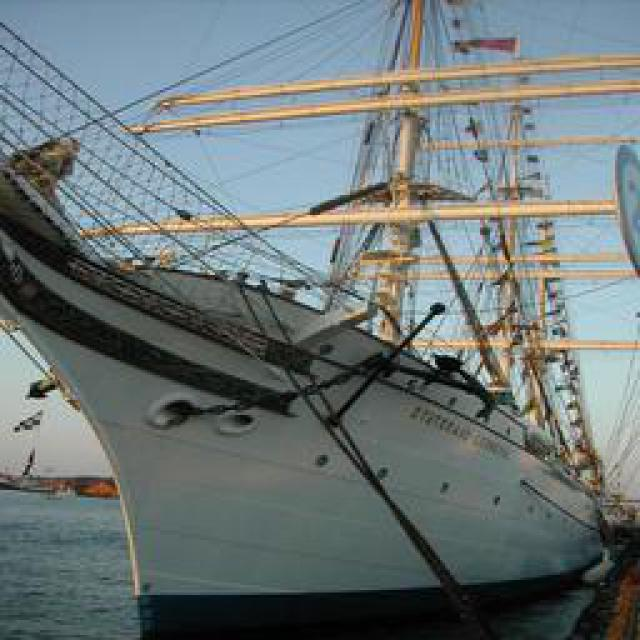Ship: (38, 21, 633, 629)
